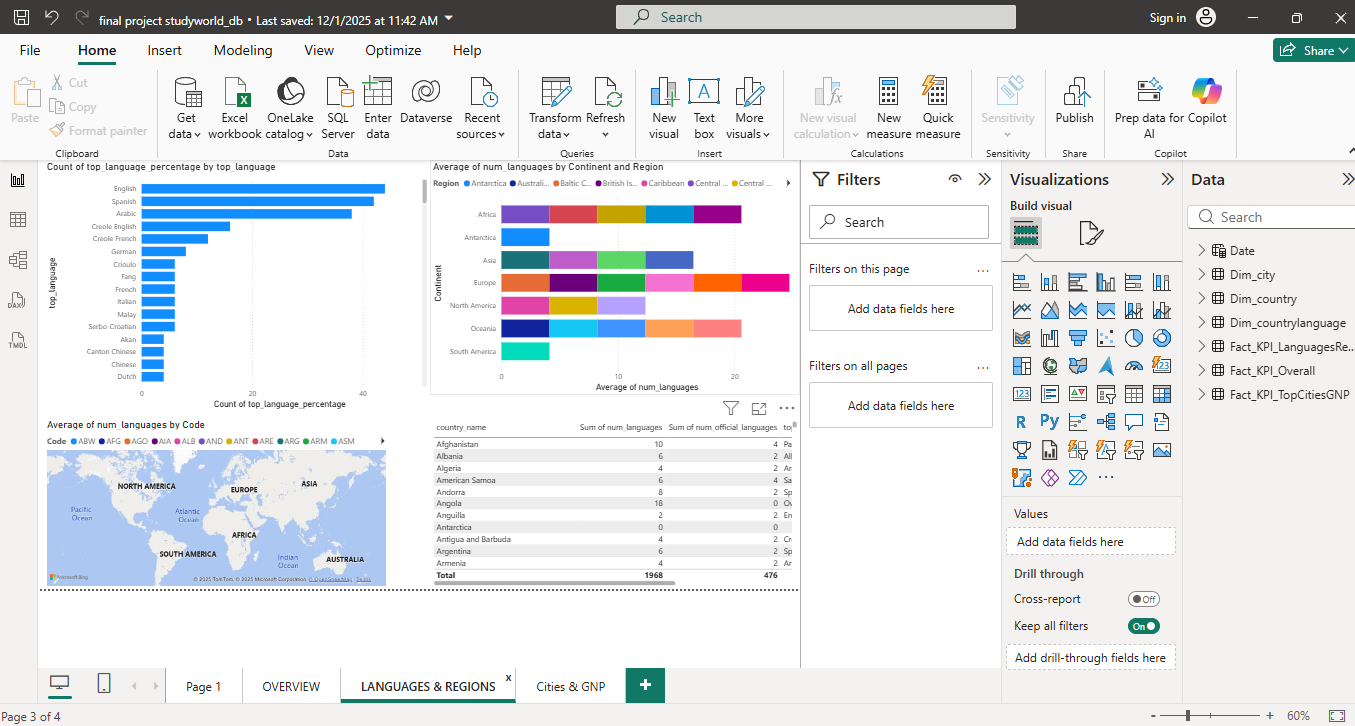

This screenshot's page, from the dashboard's own definition file:
{"tool":"powerbi","page":{"name":"LANGUAGES & REGIONS","canvas":[1280,720],"ordinal":2},"visuals":[{"type":"clusteredBarChart","fields":{"Category":["Fact_KPI_LanguagesRegions.top_language"],"Y":["CountNonNull(Fact_KPI_LanguagesRegions.top_language_percentage)"]},"box":[10.1,0,648.4,423.3],"z":0},{"type":"barChart","fields":{"Y":["Avg(Fact_KPI_LanguagesRegions.num_languages)"],"Category":["Dim_country.Continent"],"Series":["Dim_country.Region"]},"box":[658.5,0,621.5,394.8],"z":1},{"type":"filledMap","fields":{"Series":["Dim_country.Code"]},"box":[10.1,433.4,579.5,287.2],"z":2},{"type":"tableEx","fields":{"Values":["Fact_KPI_LanguagesRegions.country_name","Sum(Fact_KPI_LanguagesRegions.num_languages)","Sum(Fact_KPI_LanguagesRegions.num_official_languages)","Fact_KPI_LanguagesRegions.top_language","Sum(Fact_KPI_LanguagesRegions.top_language_percentage)"]},"box":[658,433,622,287],"z":3}]}

Visuals, with their boxes on the page's 1280x720 design canvas (x1, y1, x2, y2). These are canvas units, not pixel positions in the 1355x726 screenshot, which may show the page scaled, cropped or inside an application window:
clusteredBarChart - Fact_KPI_LanguagesRegions.top_language x CountNonNull(Fact_KPI_LanguagesRegions.top_language_percentage): left=10, top=0, right=658, bottom=423
barChart - Avg(Fact_KPI_LanguagesRegions.num_languages) x Dim_country.Continent: left=658, top=0, right=1280, bottom=395
filledMap - Dim_country.Code: left=10, top=433, right=590, bottom=721
tableEx - Fact_KPI_LanguagesRegions.country_name x Sum(Fact_KPI_LanguagesRegions.num_languages): left=658, top=433, right=1280, bottom=720
